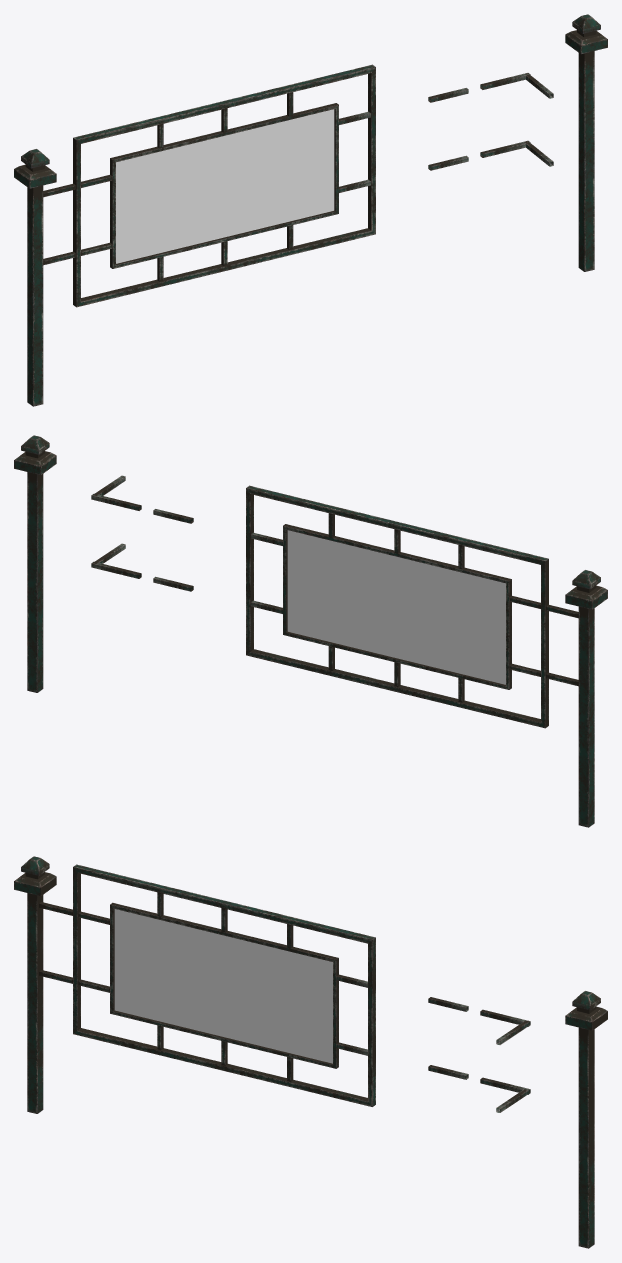
File: park_billboard.glb
3 renders of one model, top to bottom at view 1: azimuth 30°, elevation 25°; view 2: azimuth 150°, elevation 25°; view 3: azimuth 330°, elevation 25°, orthographic.
Visible parts, largest first — view 1: Object_3, Object_2; view 2: Object_3, Object_2; view 3: Object_3, Object_2.
Boxes of the visible parts, left/top/right/bottom form: Object_3: left=14, top=14, right=607, bottom=406; Object_2: left=116, top=109, right=334, bottom=263; Object_3: left=14, top=435, right=607, bottom=827; Object_2: left=287, top=530, right=505, bottom=684; Object_3: left=14, top=856, right=607, bottom=1248; Object_2: left=114, top=909, right=332, bottom=1063.
Size of the model in its own units: 290 by 122 by 30.03.
Materials: 2 (2 with a texture image).
